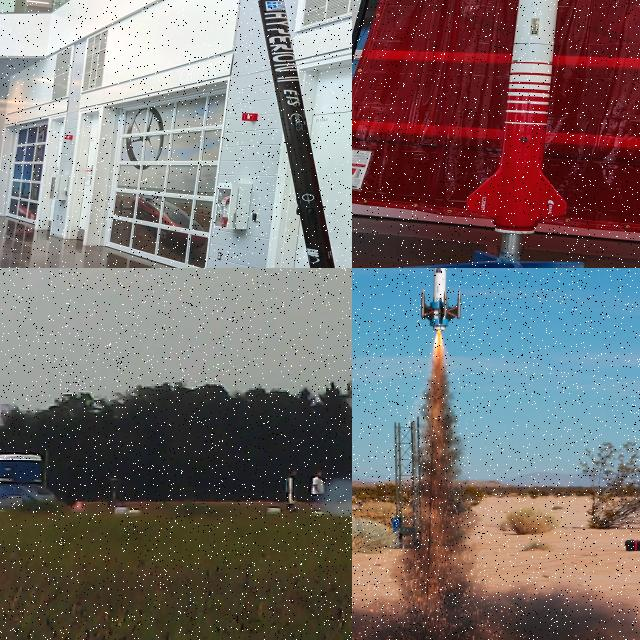Rocket: (466, 0, 568, 234), (257, 0, 335, 268), (419, 268, 462, 332)
